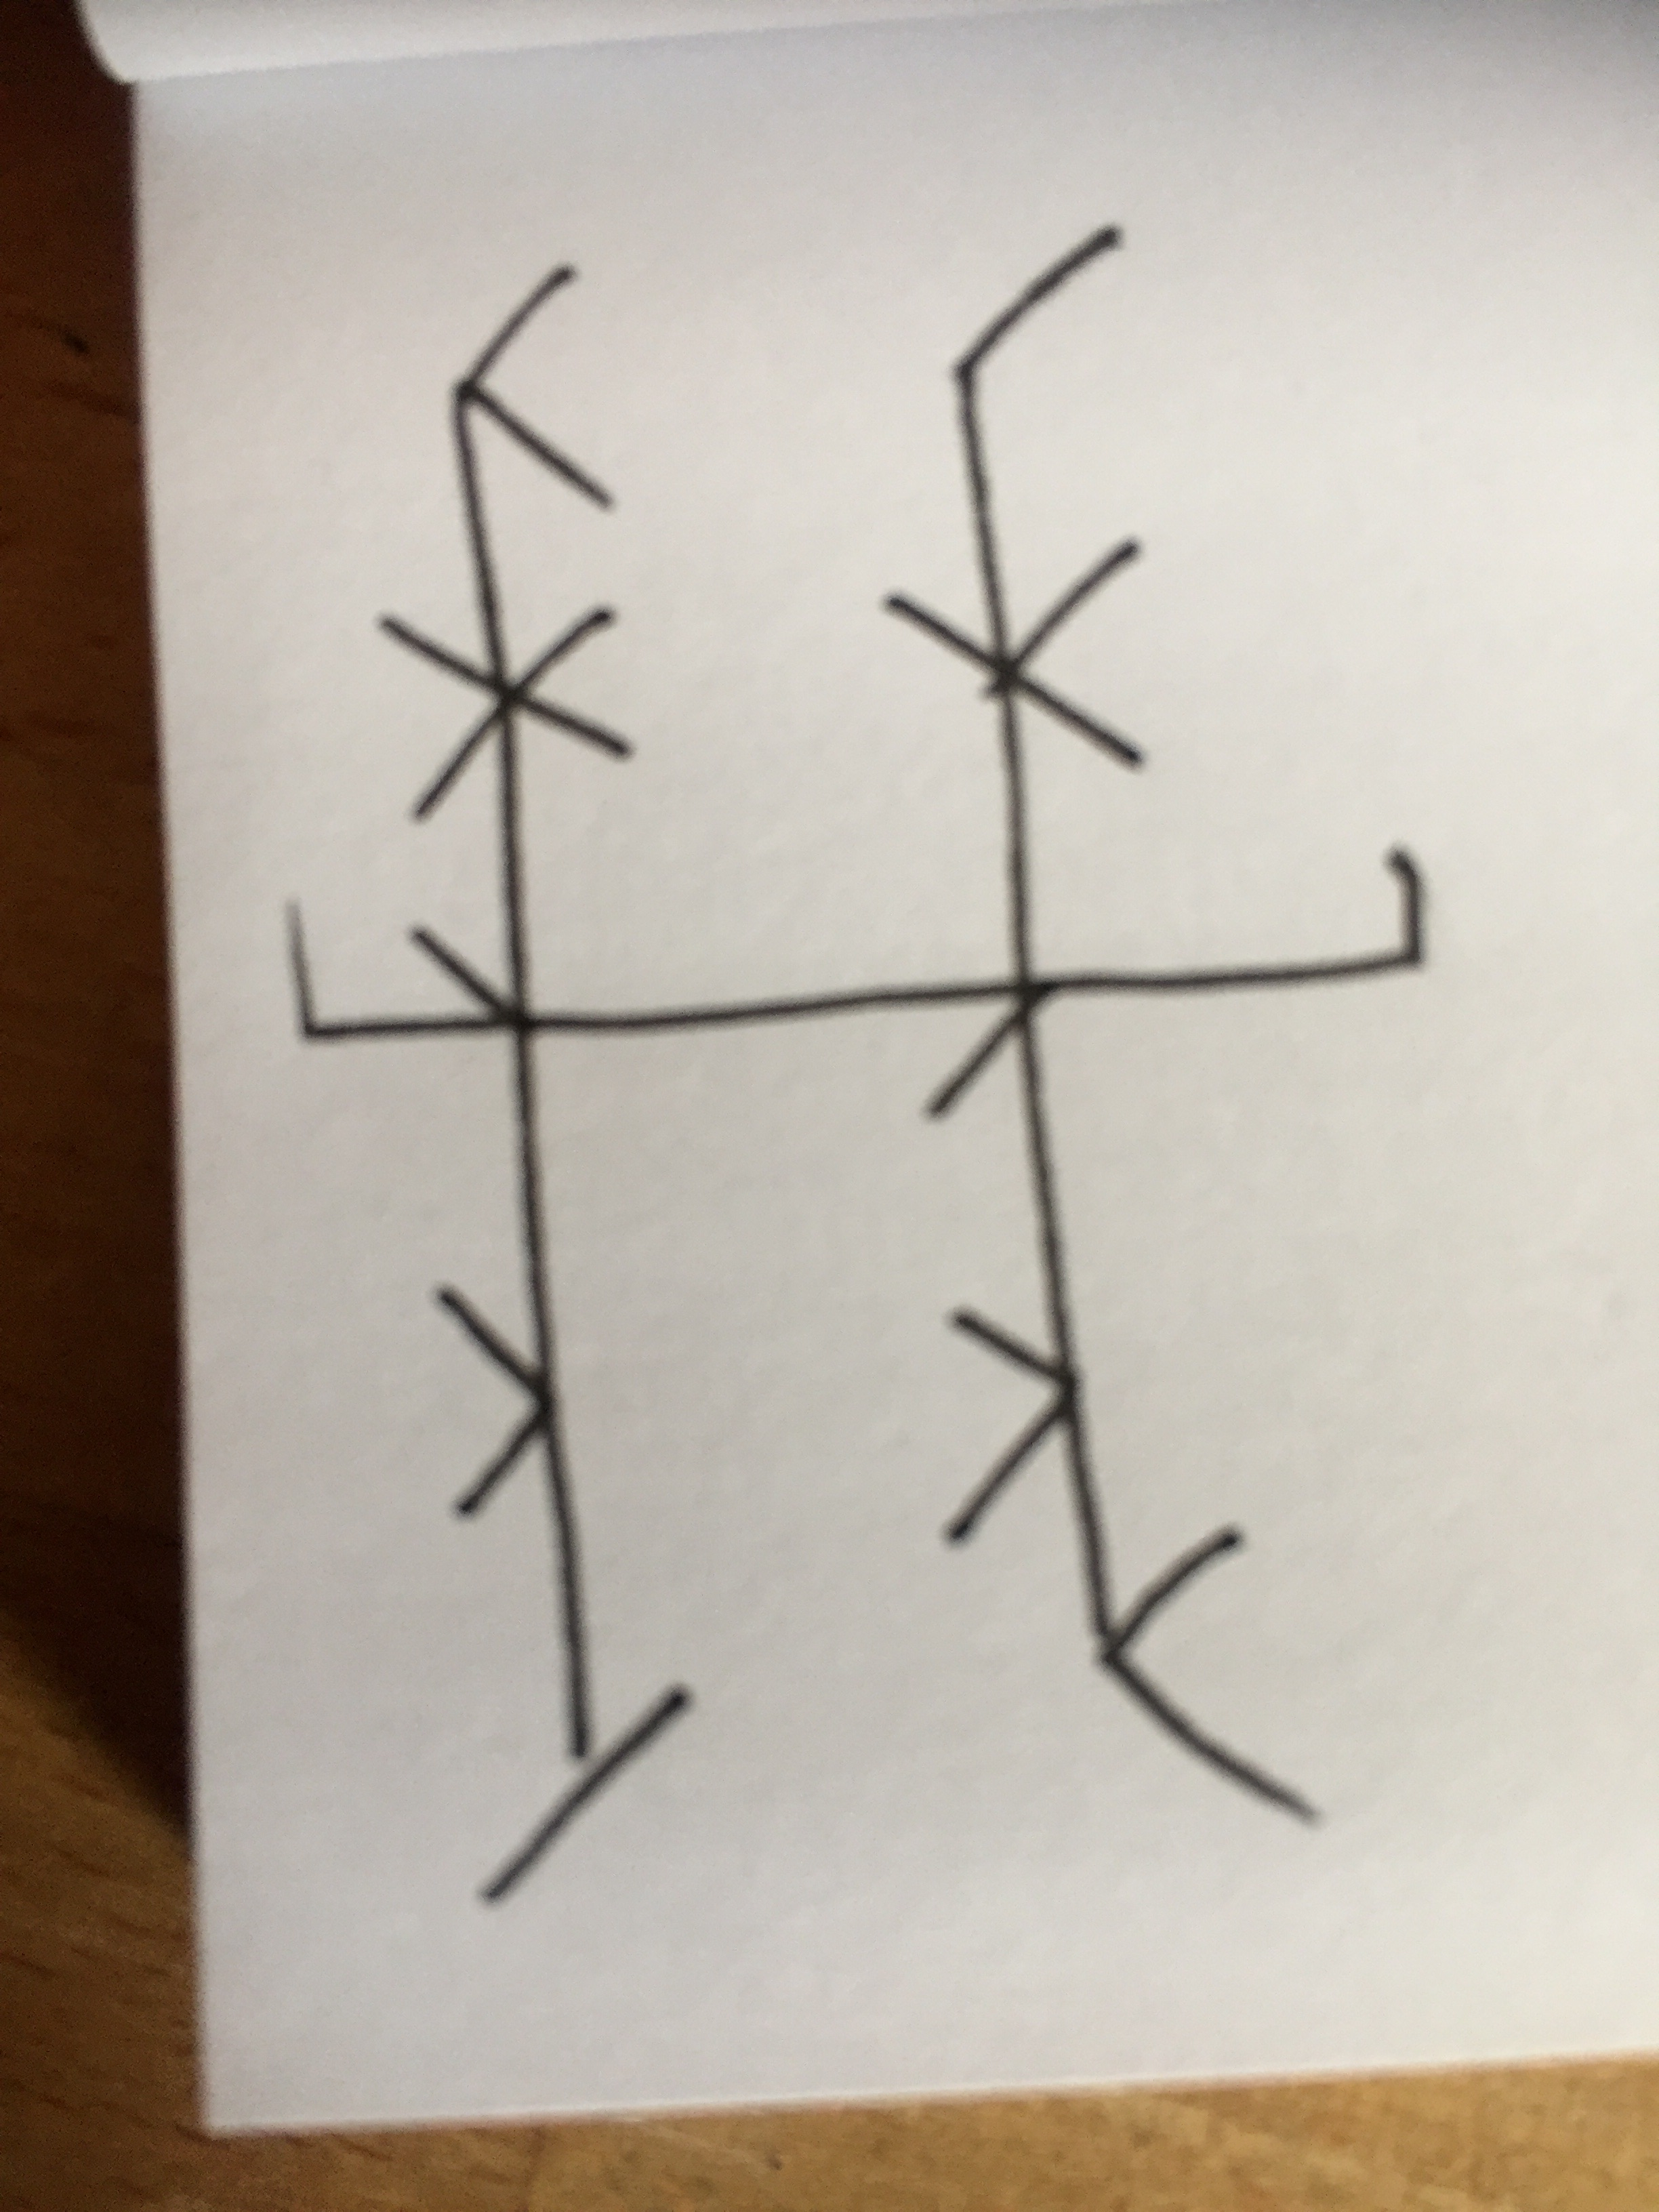Bar: (878, 225, 1323, 1832), (373, 263, 695, 1907)
Barcode: (284, 226, 1427, 1905)
End: (1058, 845, 1424, 998)
Start: (282, 897, 406, 1047)
